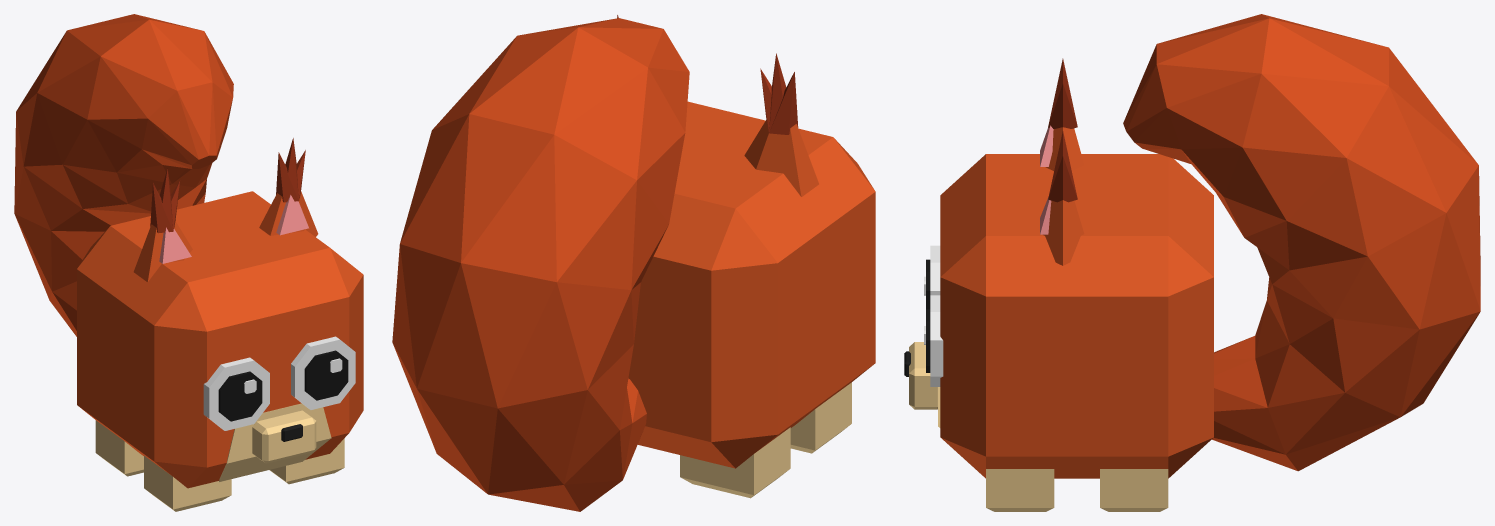
The model's file is Squirrel.fbx.
3 views of the same model, side by side, from view 1: azimuth 30°, elevation 25°; view 2: azimuth 150°, elevation 25°; view 3: azimuth 270°, elevation 25° (orthographic). The views are drawn at different scales.
Parts seen in each view (by area): view 1: Squirrel, Squirrel_Tail, Squirrel_Cream, Squirrel_Eyes, Squirrel_Pupils, Squirrel_Dark, Squirrel_Ears, Squirrel_Pink; view 2: Squirrel_Tail, Squirrel, Squirrel_Cream, Squirrel_Ears, Squirrel_Dark; view 3: Squirrel_Tail, Squirrel, Squirrel_Cream, Squirrel_Ears, Squirrel_Dark, Squirrel_Eyes, Squirrel_Pink.
Boxes of the visible parts, box(x1,y1,x2,y2) form: Squirrel: box(77, 191, 363, 488); Squirrel_Tail: box(14, 14, 233, 336); Squirrel_Cream: box(95, 403, 344, 511); Squirrel_Eyes: box(203, 336, 355, 430); Squirrel_Pupils: box(218, 350, 348, 421); Squirrel_Dark: box(150, 138, 305, 233); Squirrel_Ears: box(133, 191, 318, 282); Squirrel_Pink: box(159, 195, 308, 263); Squirrel_Tail: box(392, 18, 689, 511); Squirrel: box(628, 101, 875, 468); Squirrel_Cream: box(680, 382, 851, 498); Squirrel_Ears: box(744, 120, 818, 196); Squirrel_Dark: box(617, 15, 798, 134); Squirrel_Tail: box(1123, 14, 1480, 471); Squirrel: box(940, 154, 1213, 478); Squirrel_Cream: box(909, 342, 1168, 511); Squirrel_Ears: box(1043, 127, 1084, 265); Squirrel_Dark: box(1048, 58, 1077, 202); Squirrel_Eyes: box(924, 245, 943, 386); Squirrel_Pink: box(1040, 125, 1053, 234).
Size of the model in its own units: 2 by 3.51 by 4.05.
